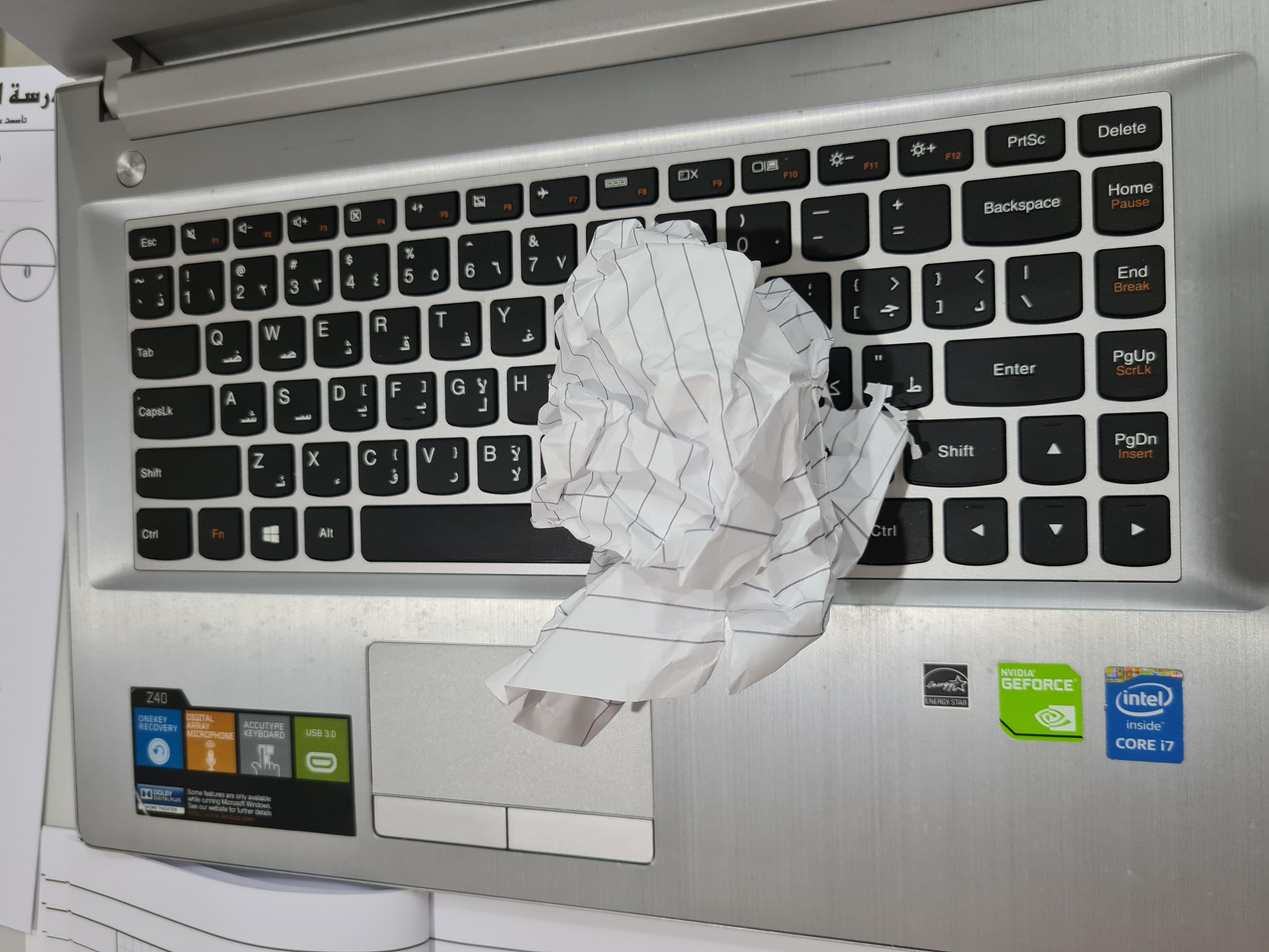paper: (303, 385, 967, 662)
